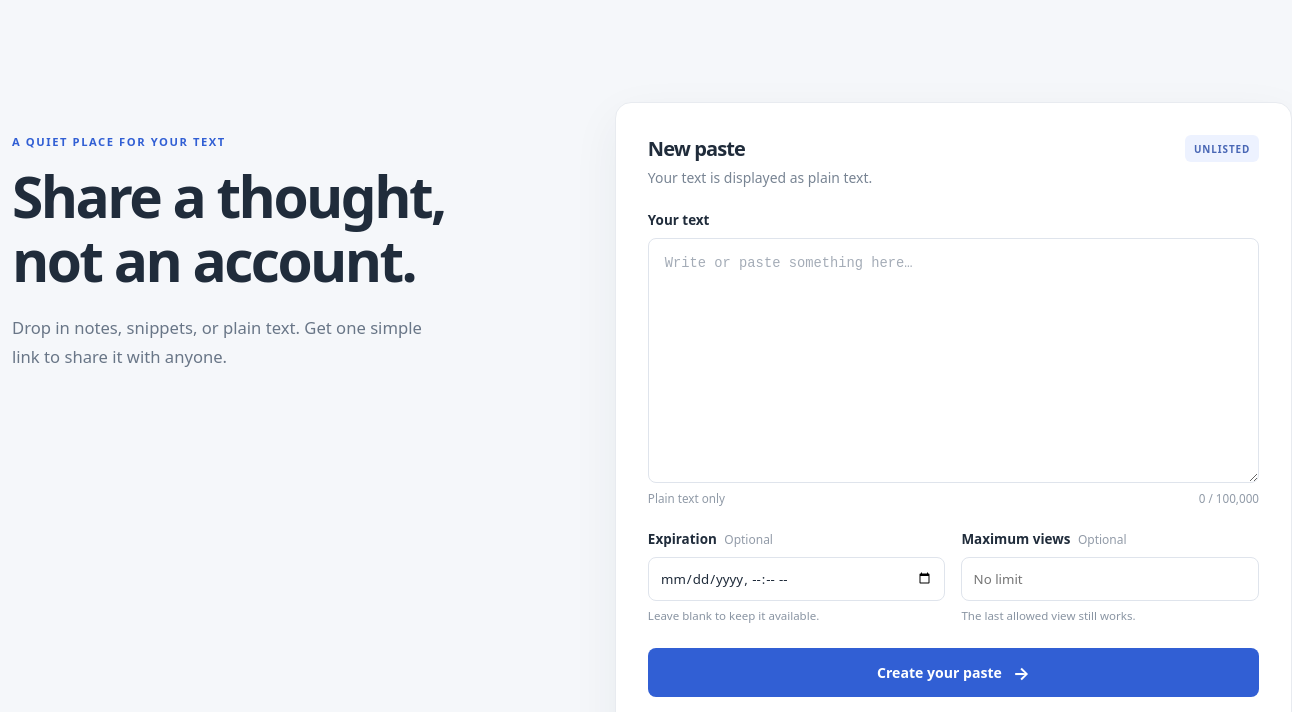
Test: create paste flow › submits content and optional settings, then shows and copies the share URL
Type "Hello from test" into the text box labelled "Your text". click: [953, 360]
box: [648,238,1259,483]
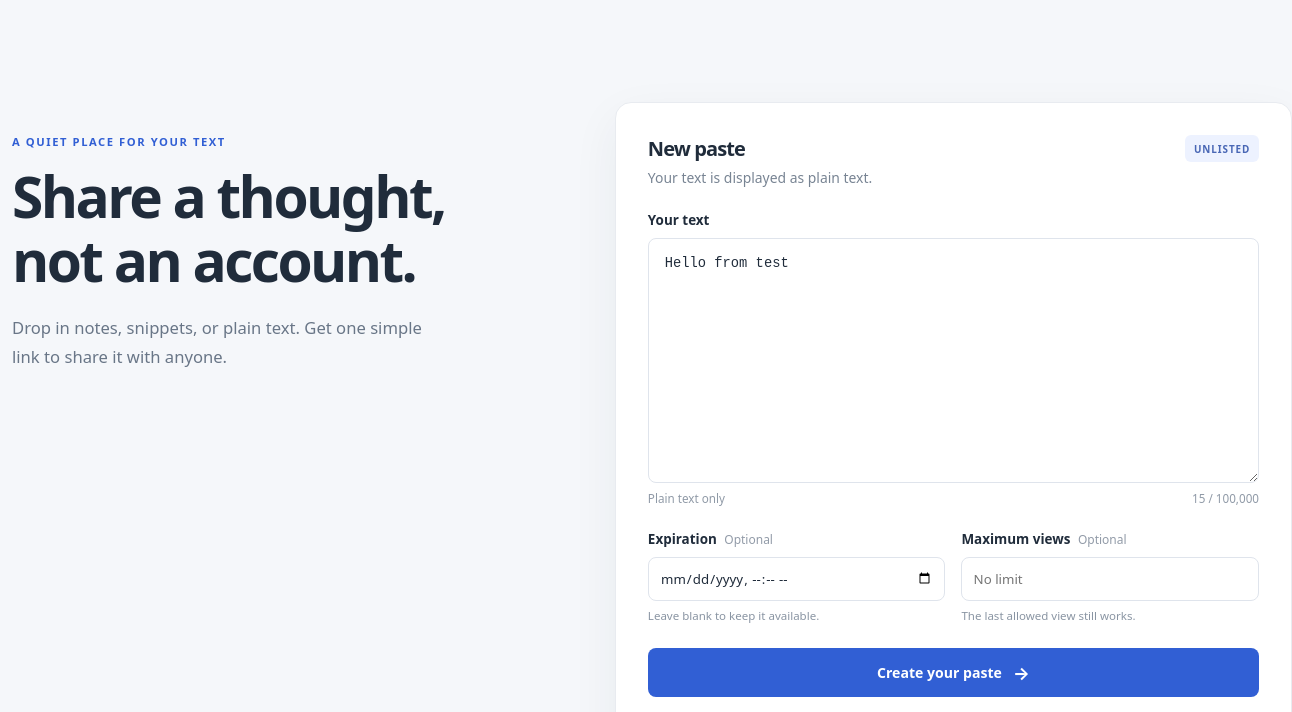
Type "3" into the number field labelled "Maximum views Optional". click: [1110, 579]
box: [961,557,1259,601]
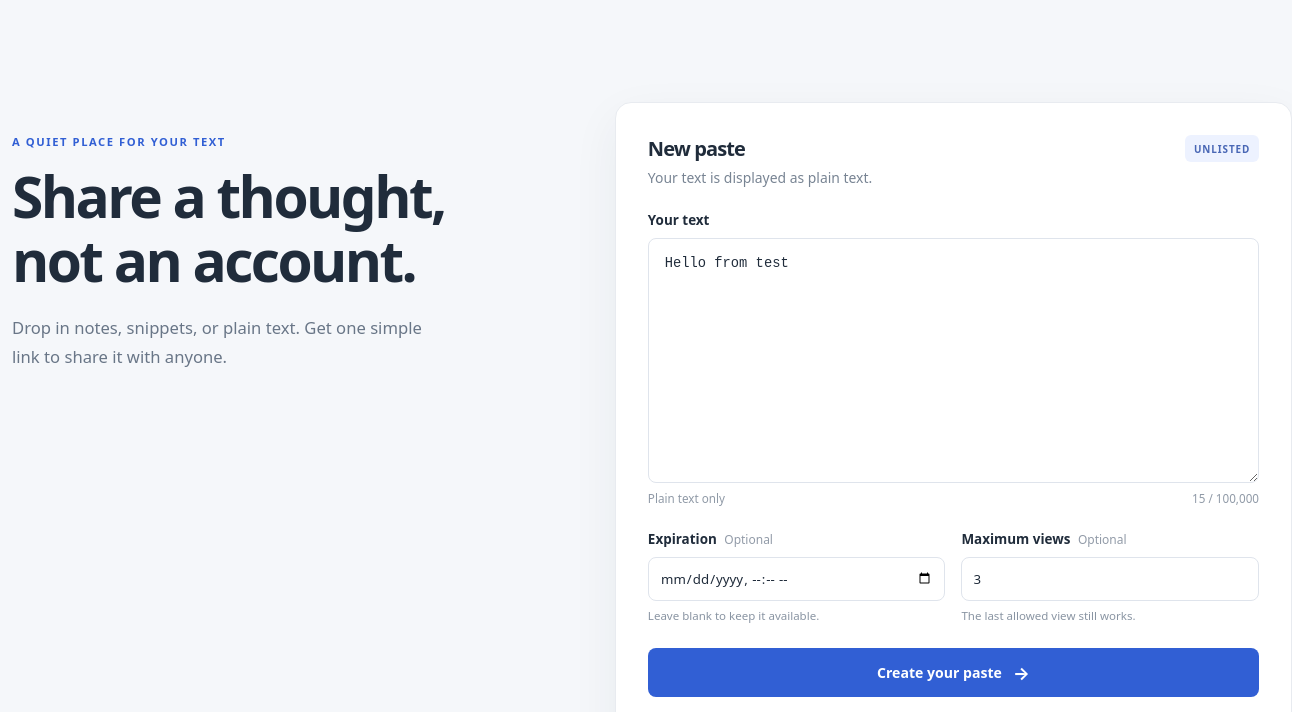
Click the button "Create your paste →". click: [953, 673]
box: [648,648,1259,697]
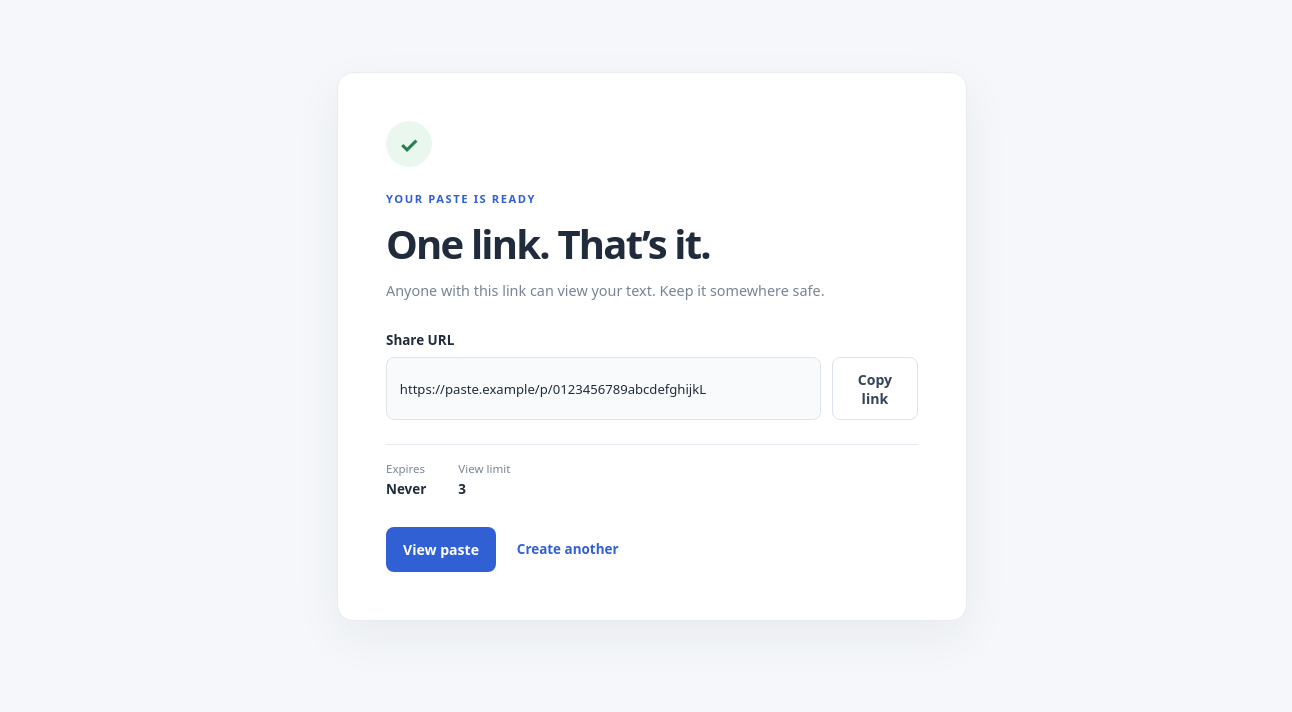
Now the field labelled "Share URL" holds "https://paste.example/p/0123456789abcdefghijkL", box [386,357,821,420]
Click the button "Copy link". click: [875, 389]
box: [832,357,918,420]
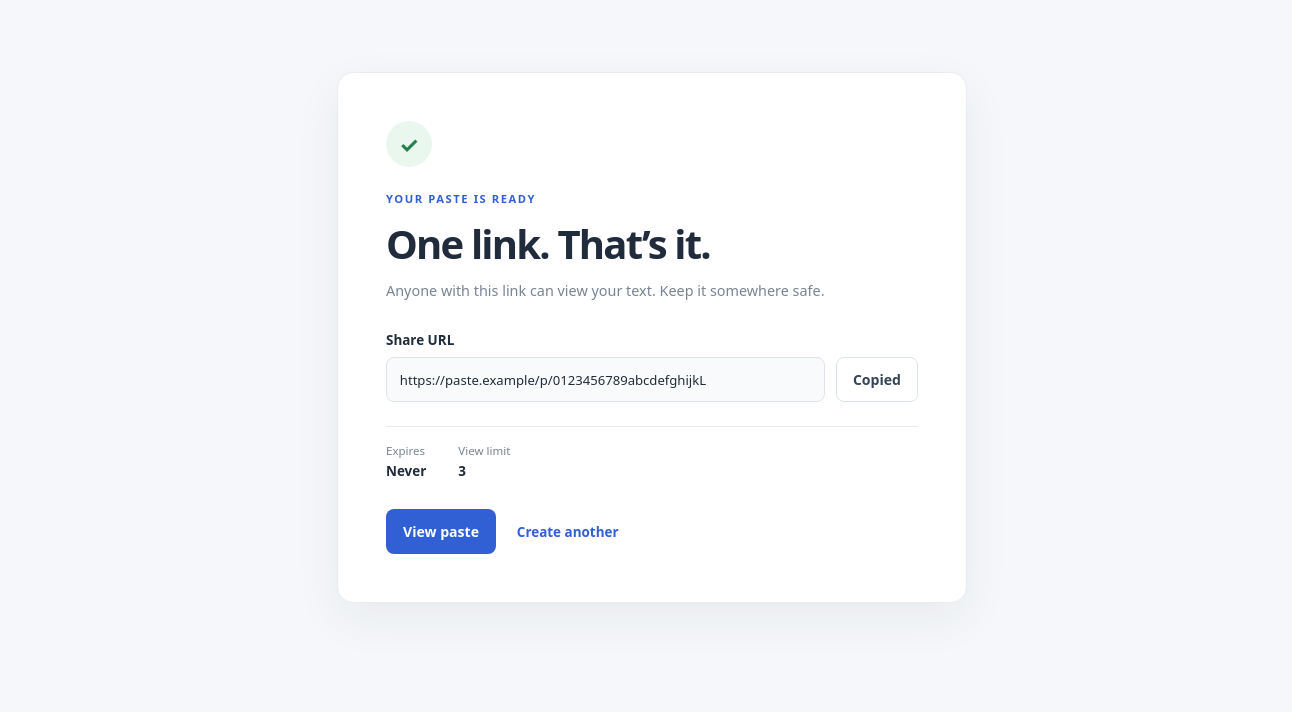
Now the button "Copied" is shown, box [836,357,918,402]
